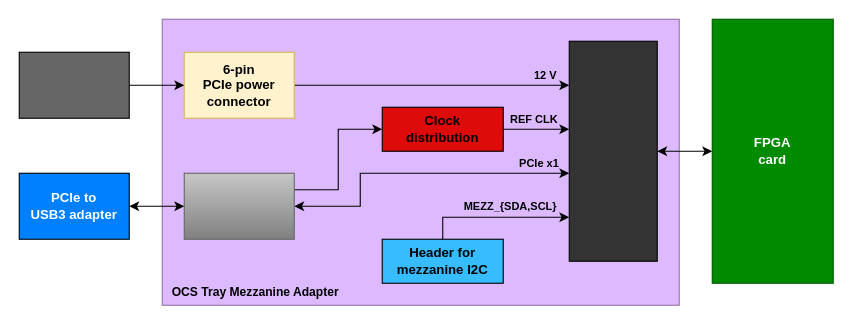
The diagram is 853 pixels wide and 325 high, and some of its shapes have lost their labels. The shapes that lost their labels are listed below. From the top down, each one's centre as x and y in pixels, then its label:
At (73,84): "ATX 6-pin power cable".
At (612,150): "160-pin SAMTEC connector".
At (238,205): "USB3 connector".
